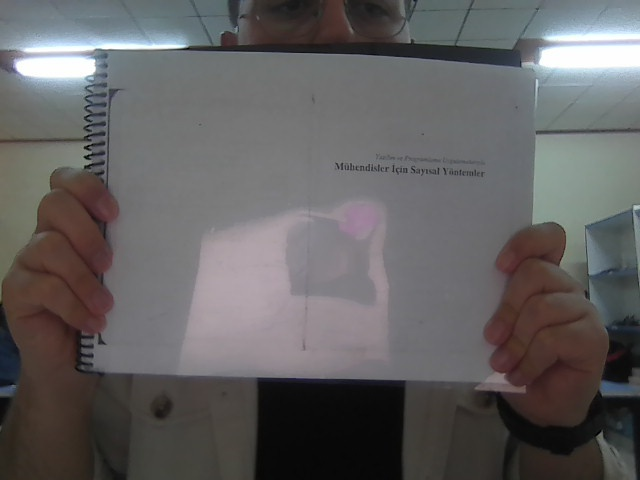DeepFakes: (9, 33, 562, 479)
